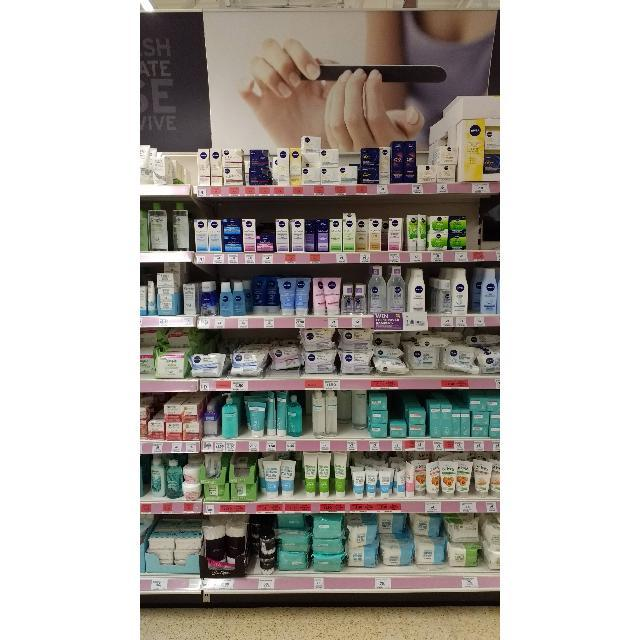empty: (466, 193, 500, 250), (184, 108, 198, 186)
front: (411, 369, 443, 377), (338, 425, 352, 439), (294, 486, 306, 500), (304, 418, 312, 438), (249, 558, 259, 574), (238, 430, 252, 440), (250, 313, 282, 317), (353, 430, 367, 438), (140, 374, 154, 380), (467, 311, 479, 315)
